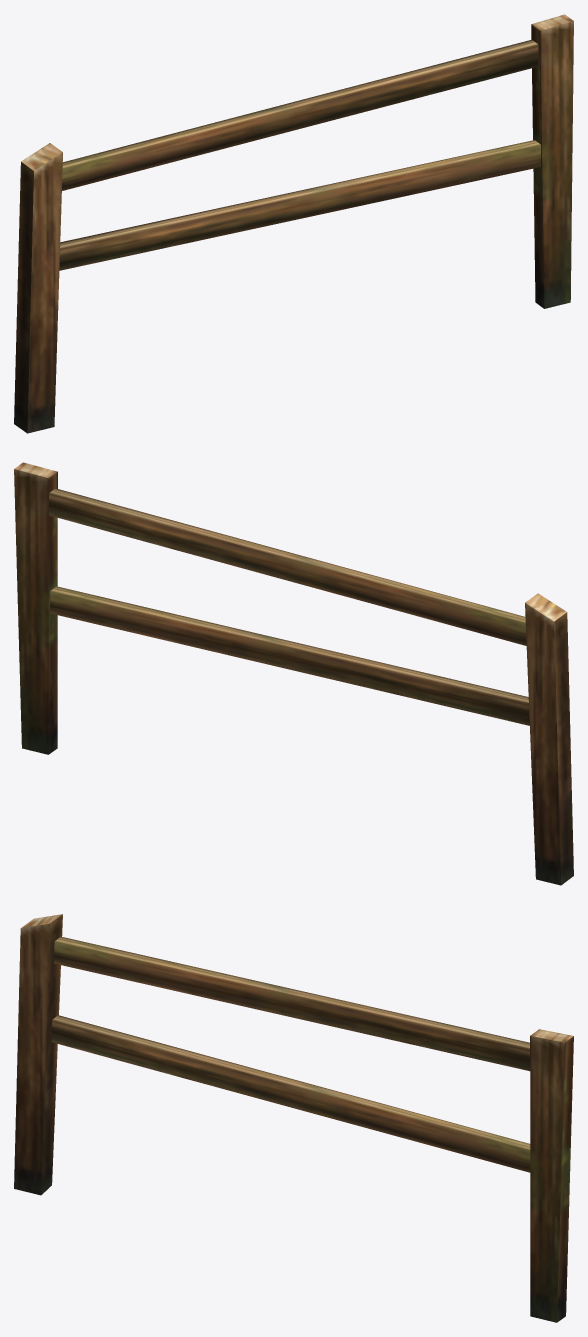
The model's file is general_obj_fence01.fbx.
3 views of the same model, one above another, from view 1: azimuth 30°, elevation 25°; view 2: azimuth 150°, elevation 25°; view 3: azimuth 330°, elevation 25° (orthographic).
Parts seen in each view (by area): view 1: Sphere01; view 2: Sphere01; view 3: Sphere01.
Part boxes in pixels (x1,y1,x2,y2): Sphere01: [14, 14, 573, 433]; Sphere01: [14, 462, 573, 885]; Sphere01: [14, 914, 573, 1322].
Bounding box in the file's own units: 4.44 × 2.16 × 0.2065.
